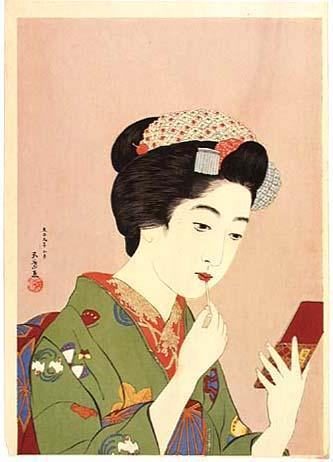person: (29, 114, 332, 459)
